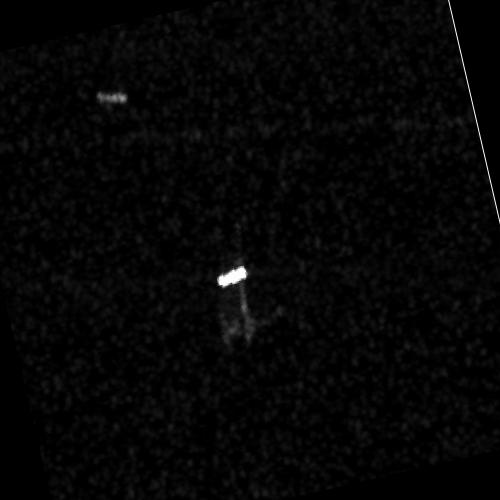ship: (215, 262, 248, 289), (96, 91, 128, 104)
